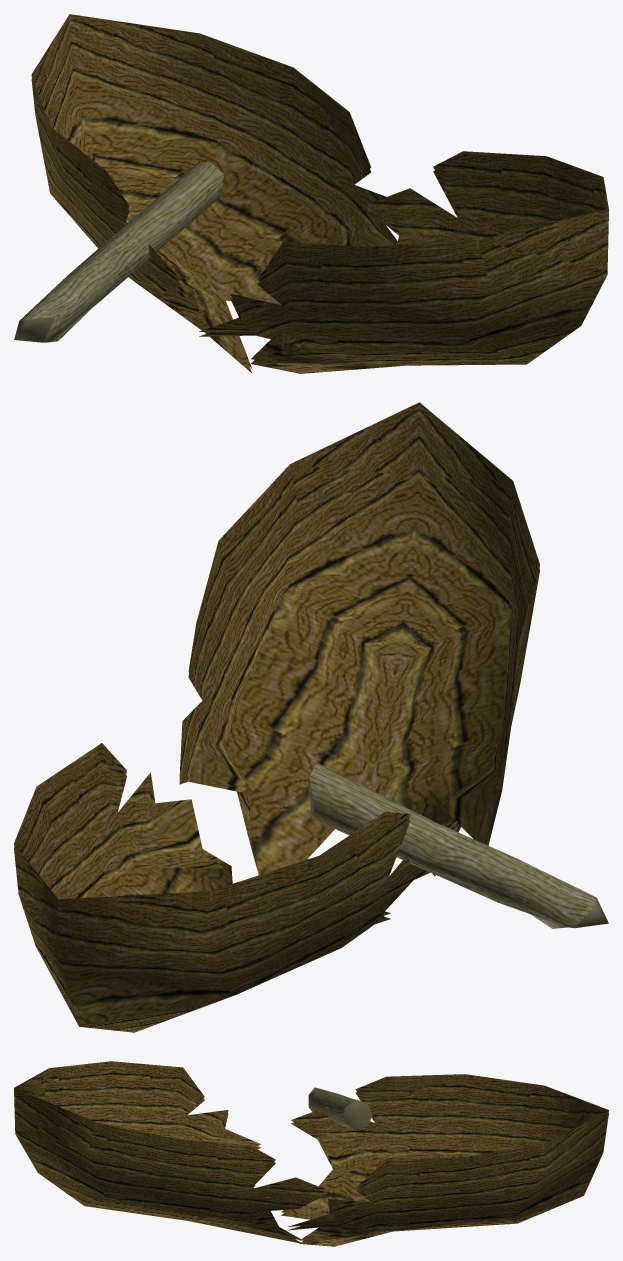
File: wreck01.obj
3 views of the same model, one above another, from view 1: azimuth 30°, elevation 25°; view 2: azimuth 150°, elevation 25°; view 3: azimuth 270°, elevation 25° (orthographic). The views are drawn at different scales.
Visible parts, largest first — view 1: Duplicate05, Duplicate03, Cylinder03, Duplicate02; view 2: Duplicate05, Duplicate02, Cylinder03, Duplicate03; view 3: Duplicate05, Duplicate03, Duplicate02, Cylinder03.
Part boxes in pixels (x1,y1,x2,y2): Duplicate05: [31, 14, 608, 368]; Duplicate03: [199, 163, 608, 373]; Cylinder03: [14, 161, 224, 342]; Duplicate02: [31, 79, 396, 372]; Duplicate05: [14, 402, 539, 915]; Duplicate02: [14, 748, 457, 1032]; Cylinder03: [308, 762, 608, 928]; Duplicate03: [179, 466, 539, 876]; Duplicate05: [14, 1061, 608, 1243]; Duplicate03: [14, 1072, 327, 1243]; Duplicate02: [281, 1078, 608, 1246]; Cylinder03: [308, 1087, 372, 1129].
Size of the model in its own units: 63.47 by 36.82 by 108.
